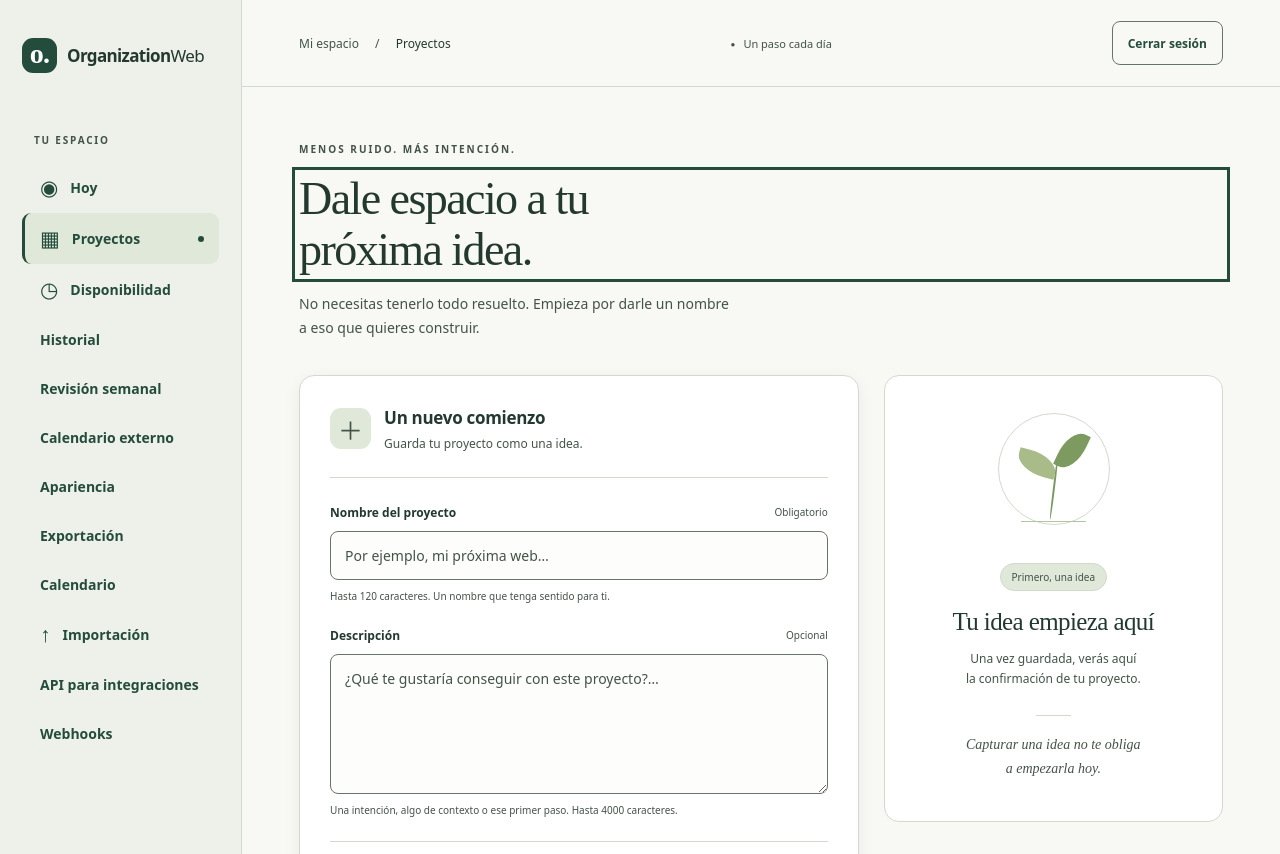
Test: @s39 import23 storage cleanup failure never prevents logout
Click the button "Cerrar sesión": point(1167, 43) [1112,21,1223,65]
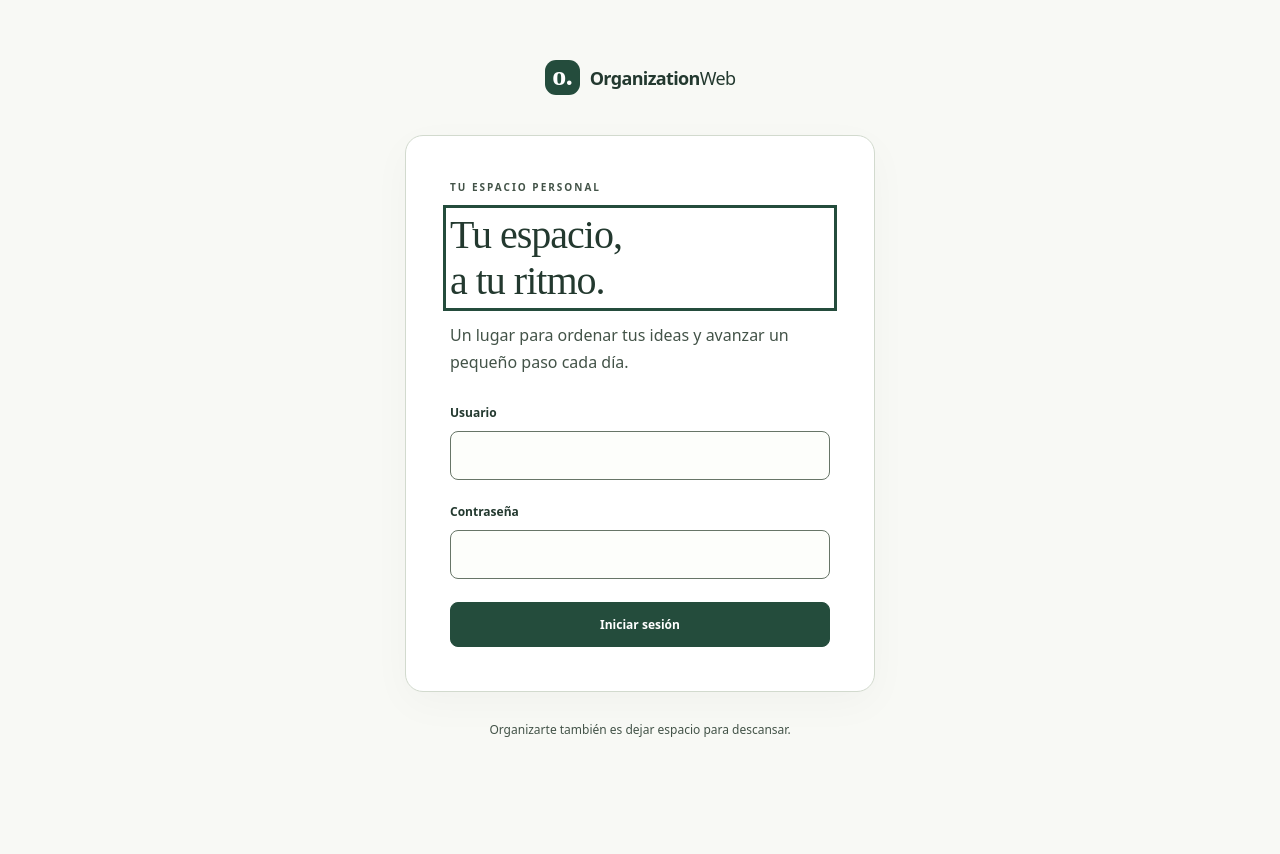
Now the button "Iniciar sesión" is shown, box [450,602,830,647]
